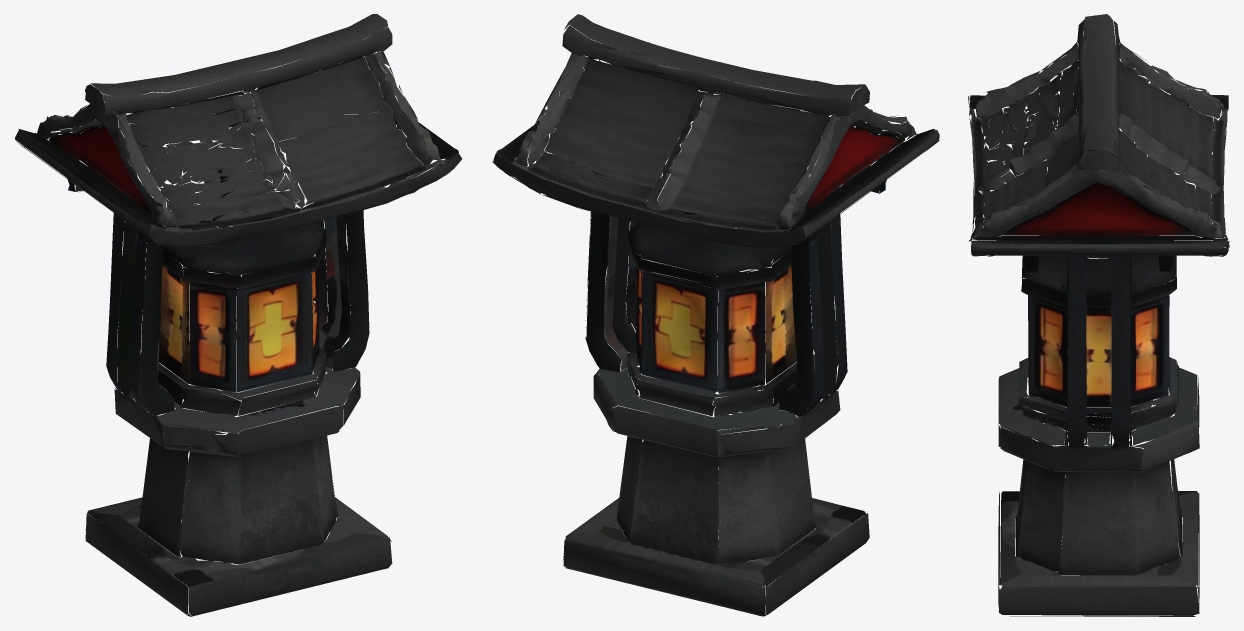
File: wf-lantern.glb
The picture shows the model from 3 angles, left to right: view 1: azimuth 30°, elevation 25°; view 2: azimuth 150°, elevation 25°; view 3: azimuth 270°, elevation 25°; orthographic projection. The views are drawn at different scales.
Visible parts, largest first — view 1: tmp14r3o_mz.ply; view 2: tmp14r3o_mz.ply; view 3: tmp14r3o_mz.ply.
Part boxes in pixels (box(x1,y1,x2,y2)): tmp14r3o_mz.ply: box(15, 14, 462, 616); tmp14r3o_mz.ply: box(492, 14, 939, 616); tmp14r3o_mz.ply: box(968, 14, 1229, 616).
Size of the model in its own units: 0.6481 by 0.9879 by 0.481.
Materials: 1 (1 with a texture image).
